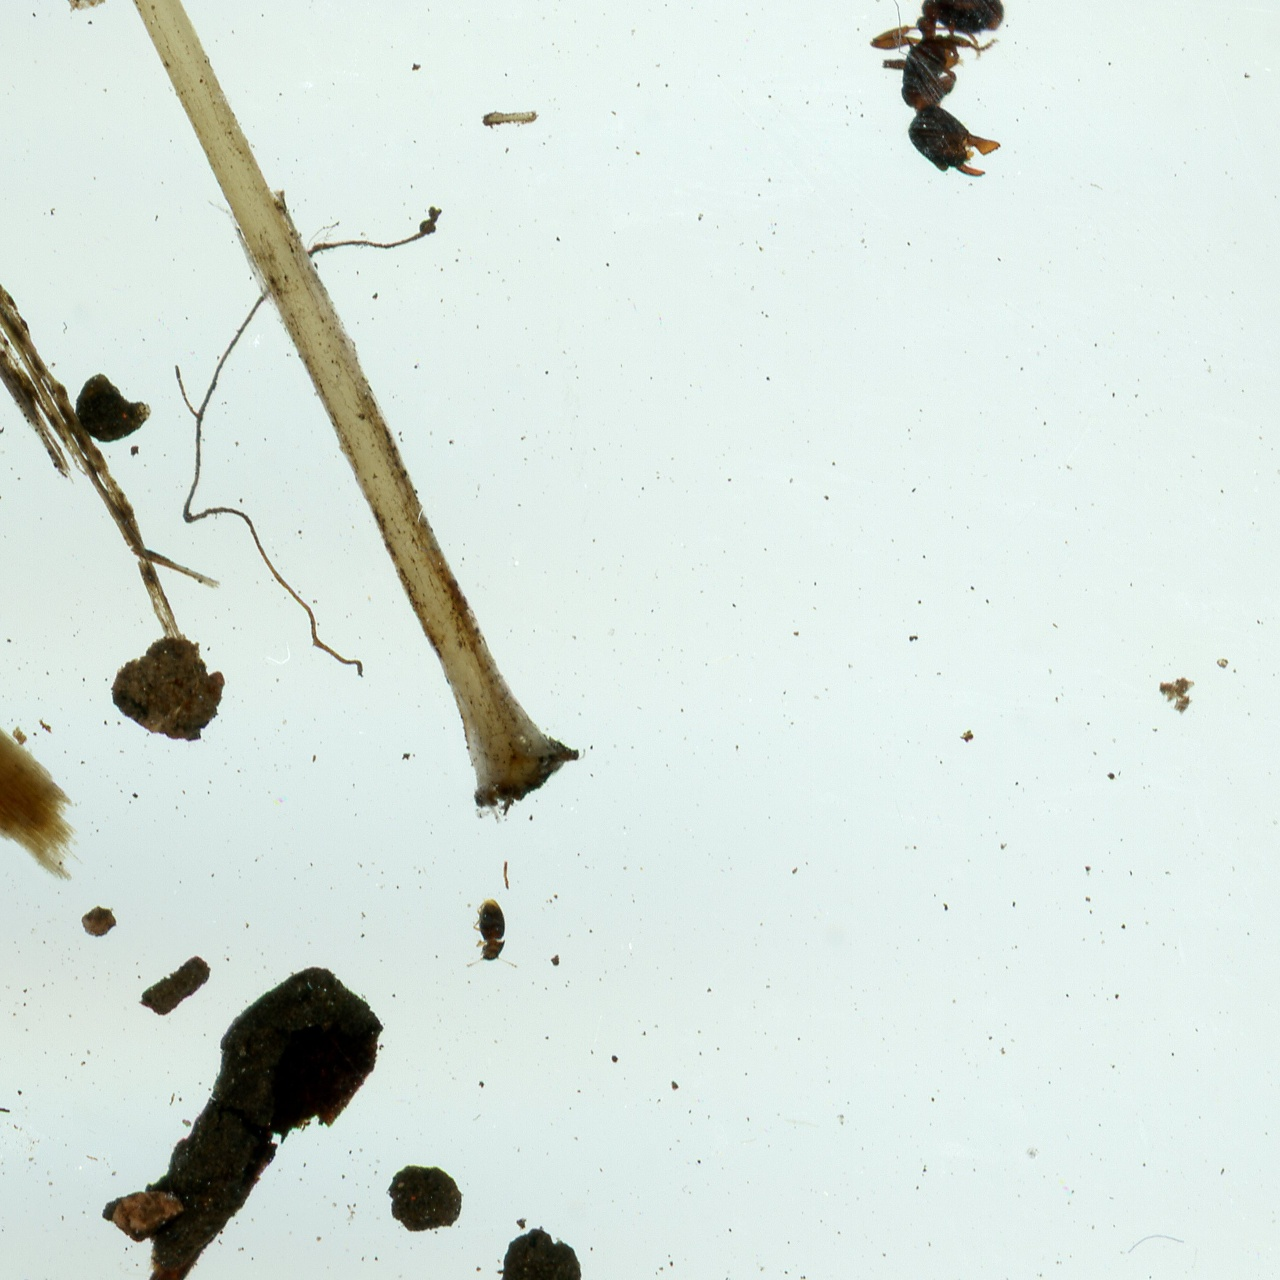arthropod: (868, 0, 1017, 184), (464, 895, 524, 975)
